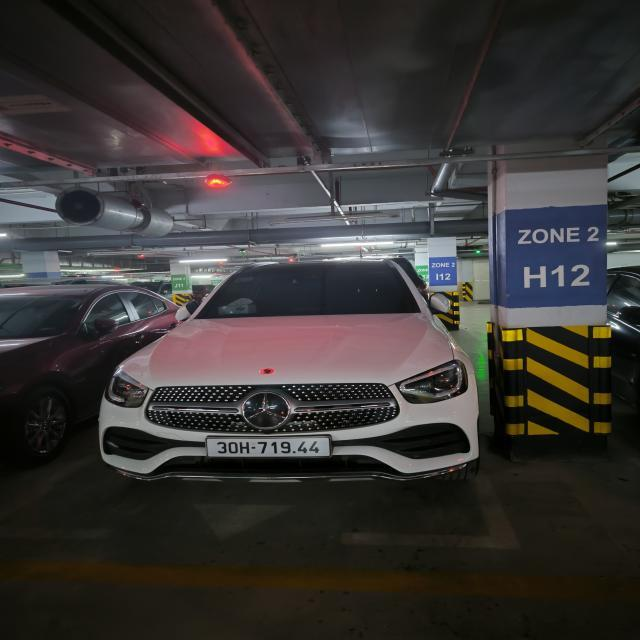license: (205, 435, 331, 458)
